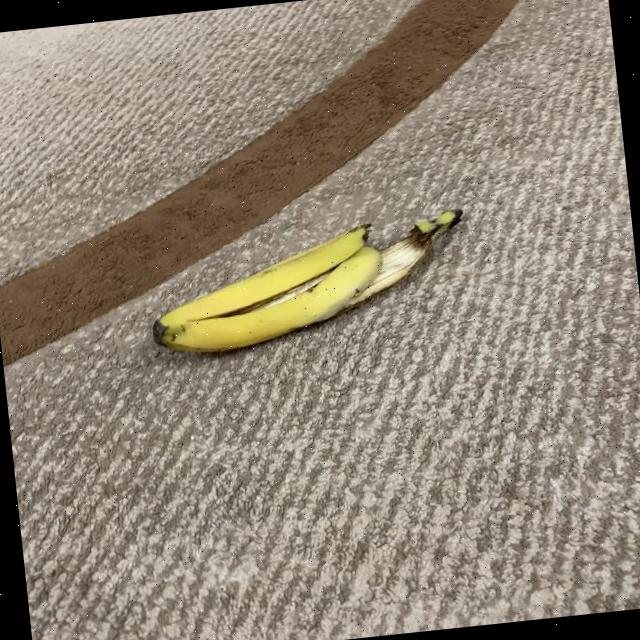banana-peel: (140, 206, 473, 360)
